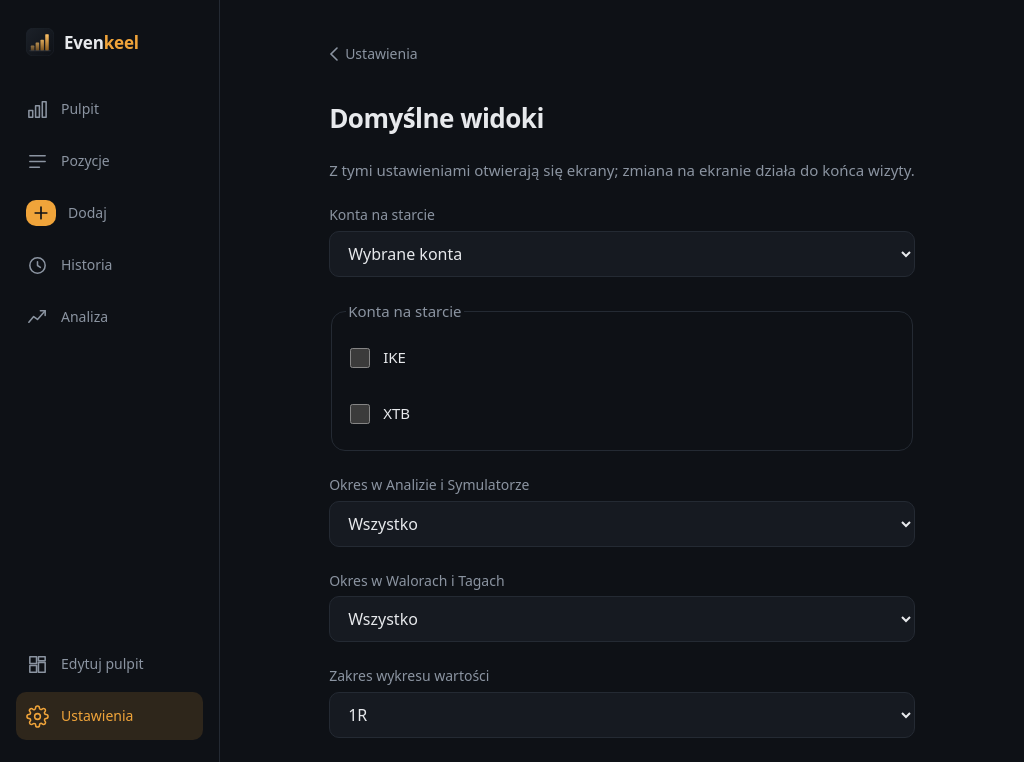
Test: saving default views › does not take another tick while one is being saved
Click the checkbox labelled "IKE" at x=360, y=358, box top-left (350, 348), bottom-right (370, 368)
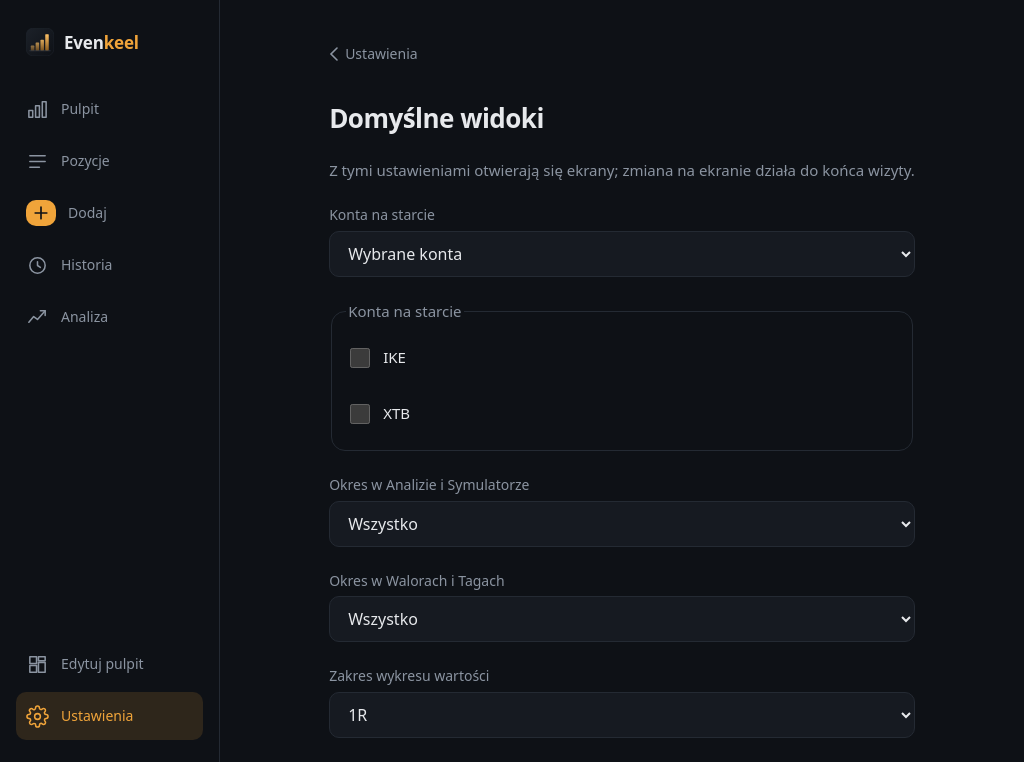
Expected: the checkbox labelled "XTB" is disabled, top-left (350, 404), bottom-right (370, 424)
